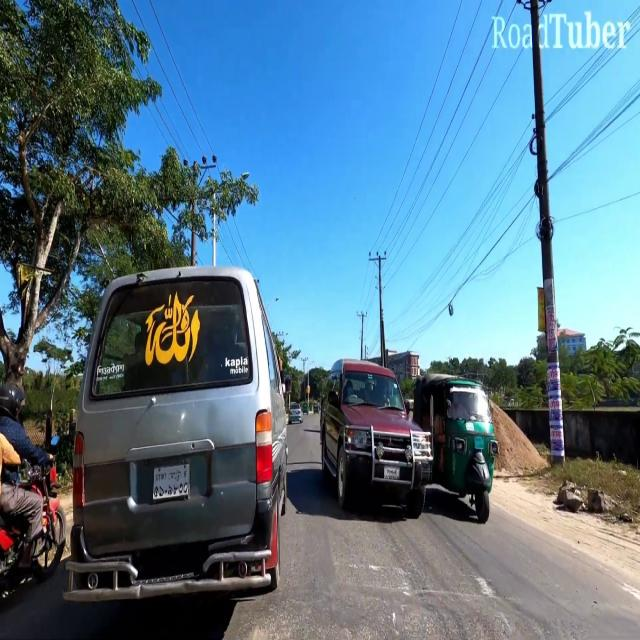maroon: (322, 359, 432, 513)
silver: (73, 269, 286, 592)
